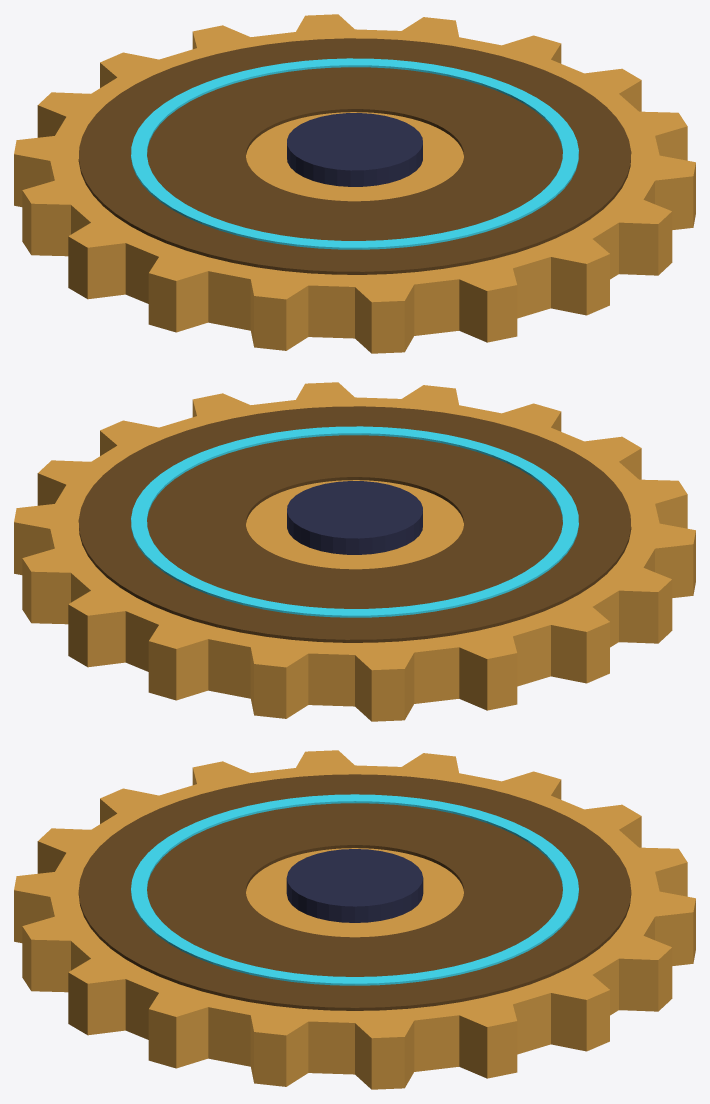
Rendered from Gear_Big3.obj.
3 views of the same model, one above another, from view 1: azimuth 30°, elevation 25°; view 2: azimuth 150°, elevation 25°; view 3: azimuth 270°, elevation 25° (orthographic).
Parts seen in each view (by area): view 1: Gear_Big3; view 2: Gear_Big3; view 3: Gear_Big3.
Boxes of the visible parts, box(x1,y1,x2,y2) form: Gear_Big3: box(14, 14, 695, 353); Gear_Big3: box(14, 382, 695, 721); Gear_Big3: box(14, 750, 695, 1089).
Bounding box in the file's own units: 5.99 × 0.66 × 6.
